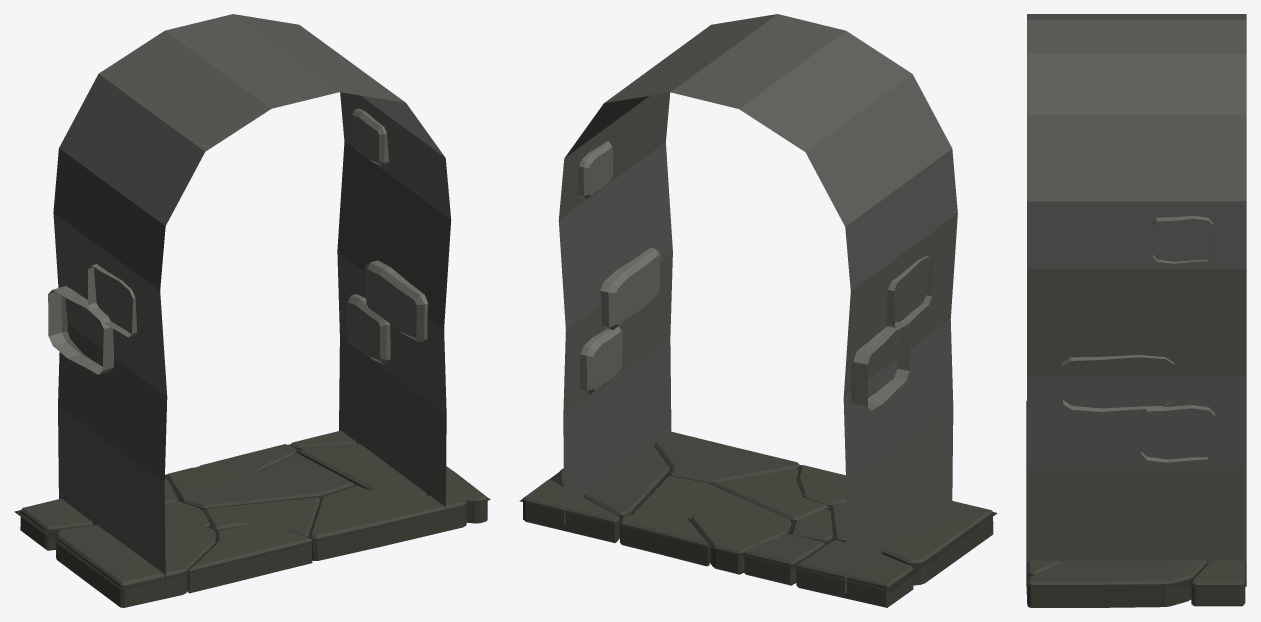
Rendered from Hallway_Quarter.glb.
3 views of the same model, side by side, from view 1: azimuth 30°, elevation 25°; view 2: azimuth 150°, elevation 25°; view 3: azimuth 270°, elevation 25° (orthographic). The views are drawn at different scales.
Visible parts, largest first — view 1: Hallway_Quarter.001; view 2: Hallway_Quarter.001; view 3: Hallway_Quarter.001.
Boxes of the visible parts, bbox=[...] form: Hallway_Quarter.001: bbox=[14, 14, 490, 607]; Hallway_Quarter.001: bbox=[519, 14, 997, 607]; Hallway_Quarter.001: bbox=[1026, 14, 1246, 607].
Bounding box in the file's own units: 2 × 2.41 × 1.
Materials: 2 (2 with a texture image).
